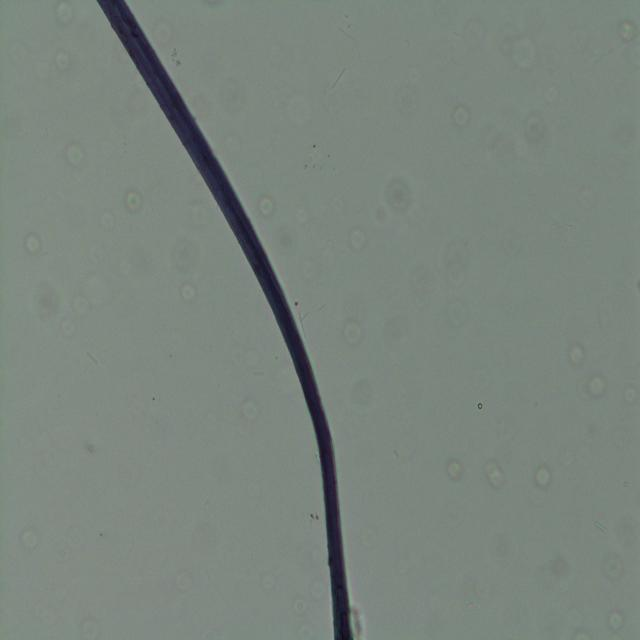Background material: (375, 170, 421, 220), (33, 284, 67, 319), (184, 193, 214, 230), (169, 236, 199, 269), (62, 137, 88, 175), (600, 602, 628, 637), (518, 110, 544, 144), (540, 556, 574, 582), (514, 32, 540, 66), (478, 462, 506, 493), (558, 340, 585, 369), (19, 230, 49, 256), (609, 18, 637, 45), (347, 222, 371, 253), (17, 528, 43, 556), (339, 320, 368, 345), (601, 560, 627, 587), (581, 373, 607, 398), (176, 279, 198, 308), (452, 101, 472, 131), (46, 46, 70, 70), (442, 455, 464, 480), (618, 380, 638, 406), (534, 462, 552, 490), (122, 188, 143, 212), (154, 21, 178, 42), (55, 1, 74, 27), (258, 195, 274, 221), (247, 396, 259, 419), (474, 400, 484, 410)
Glass filter fibre: (593, 516, 609, 534)
Microfibre: (97, 2, 359, 639)
